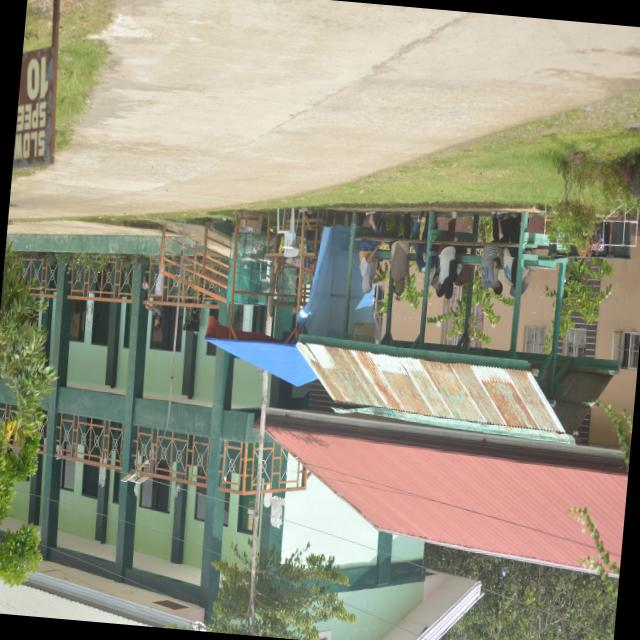person: (438, 243, 461, 298), (359, 238, 380, 292), (480, 243, 501, 294), (390, 240, 409, 294), (154, 267, 162, 299)
